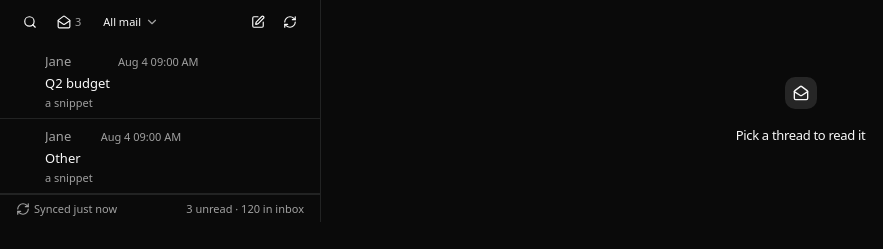
Test: archiving removes the row and closes the reader
Click the button "Jane Q2 budget a snippet Aug 4 09:00 AM". click: (78, 83)
box: [22,44,320,118]
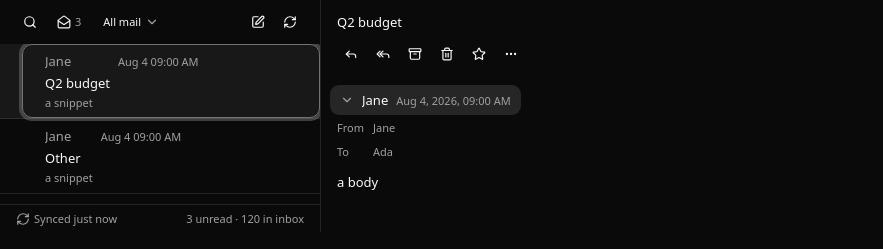
Now the element showing "Jane Aug 4, 2026, 09:00 AM From Jane To Ada a body" is shown, box [329,84,522,191]
Click the button named "Archive this thread". click: (415, 54)
box: [401,40,429,68]
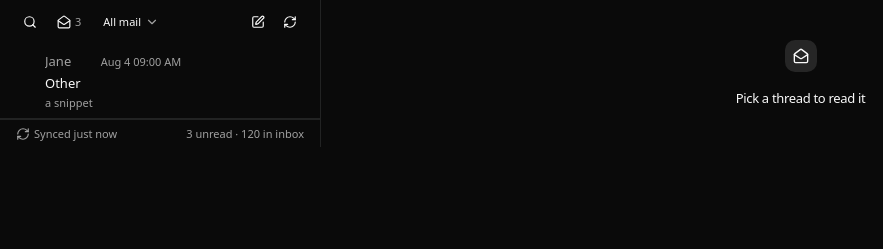
Expected: the button "Jane Other a snippet Aug 4 09:00 AM" is shown, [22,44,320,118]
Now the button "Q2 budget" is gone
